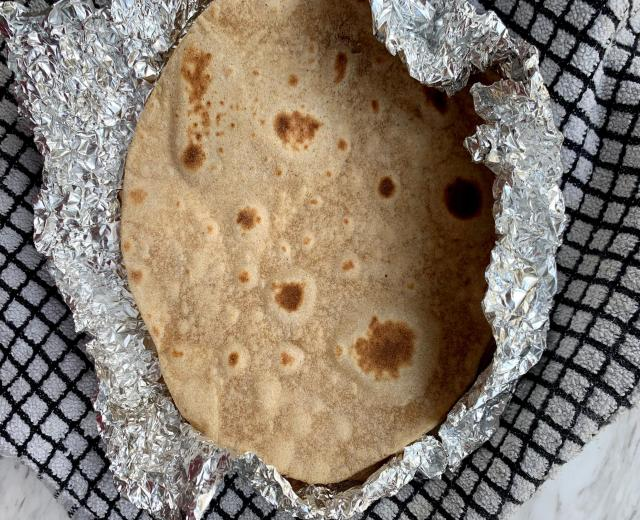chapati: (121, 0, 494, 483)
